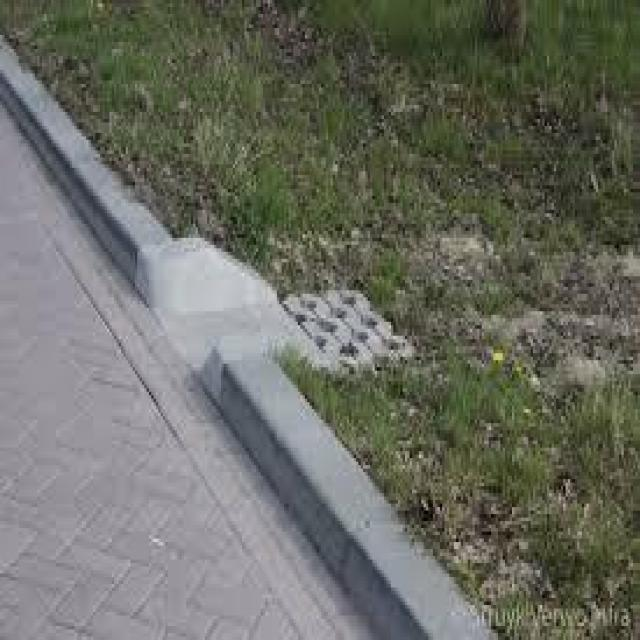curb: (1, 40, 499, 640)
